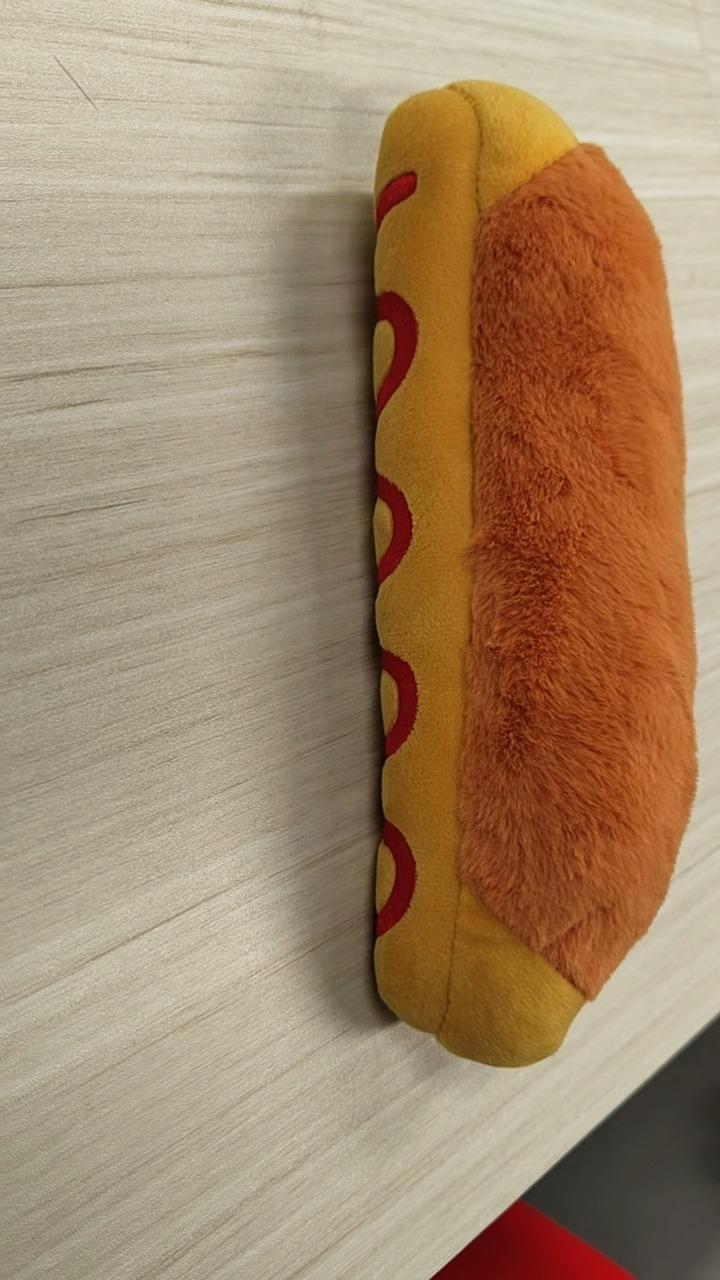hotdog: (367, 77, 699, 1068)
